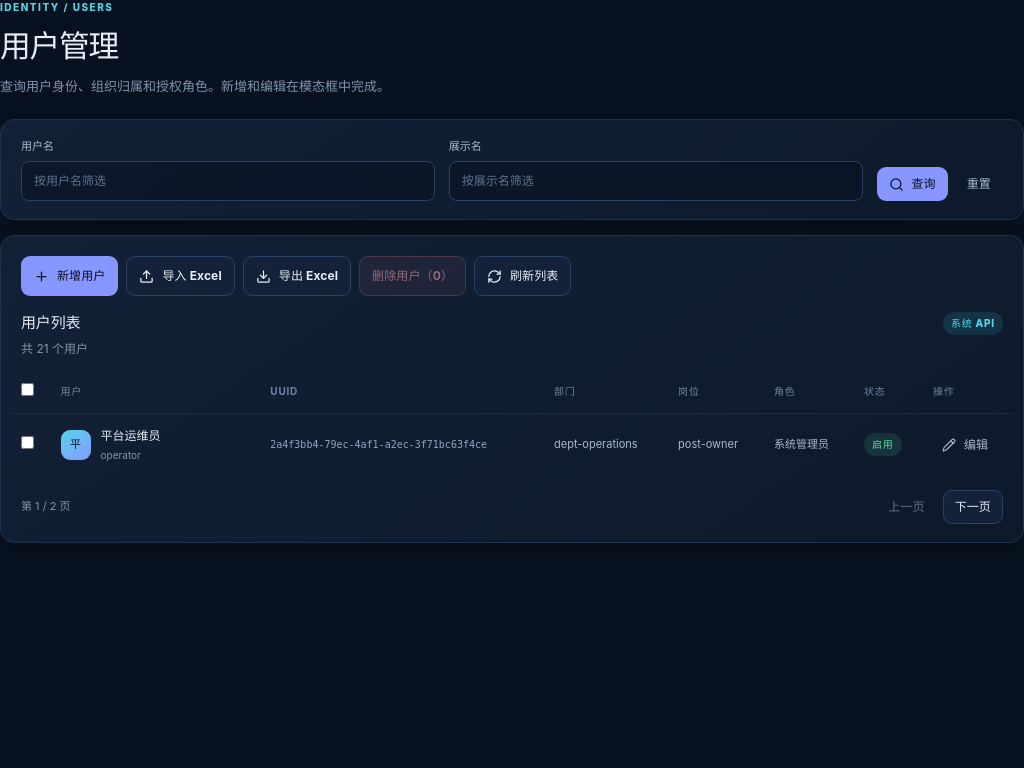
UsersPage › 用户删除失败时显示业务码诊断
Expected: the text "平台运维员" is shown, [100,427,160,445]
Click the checkbox named "选择用户 operator".
click(28, 442)  # box [21,436,34,449]
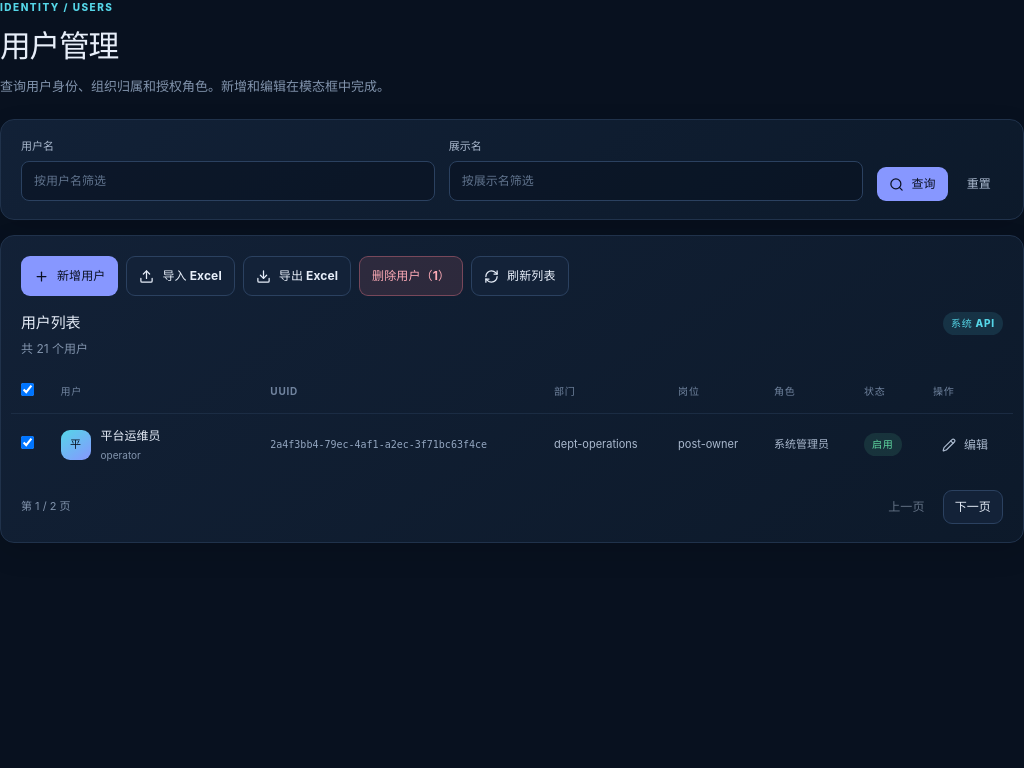
Click the button "删除用户（1）".
click(411, 276)  # box [359,256,463,296]
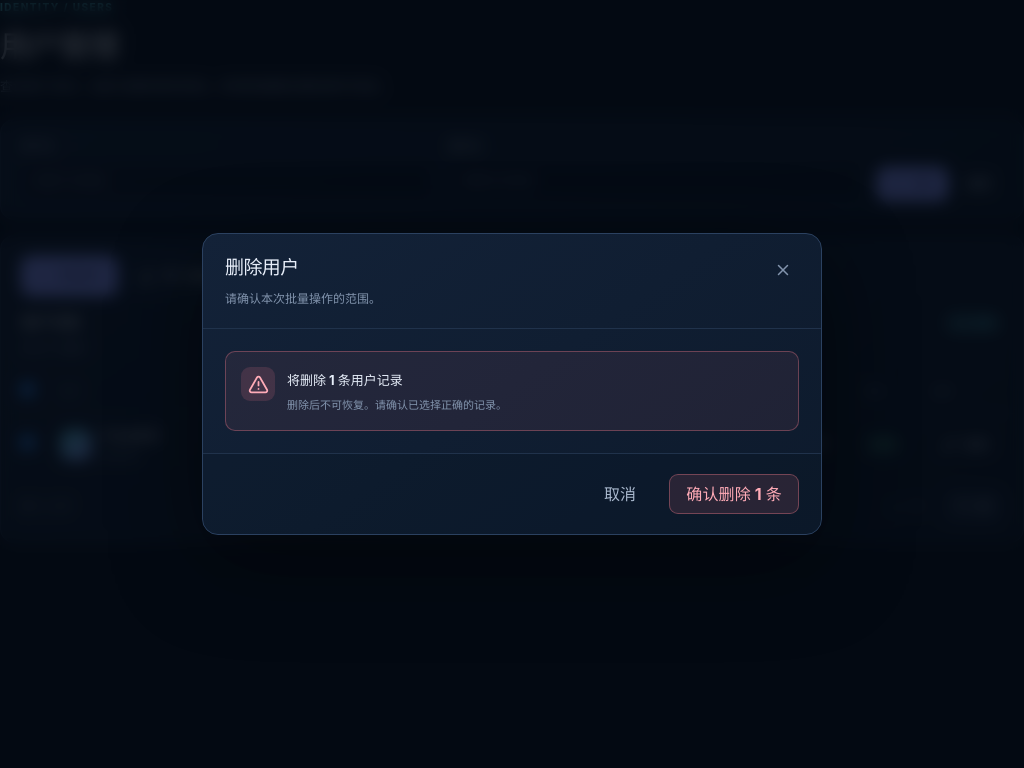
Click the button "确认删除 1 条".
click(734, 494)  # box [669,474,799,514]
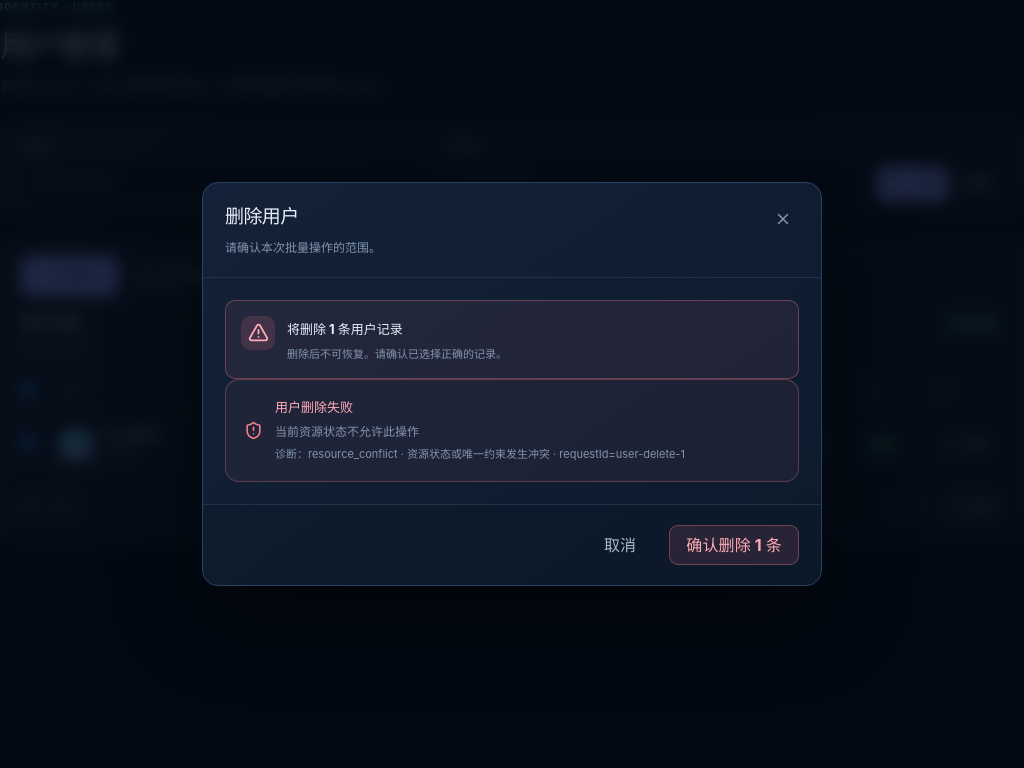
Result: the text "requestId=user-delete-1" is shown at [308,447,685,461]
